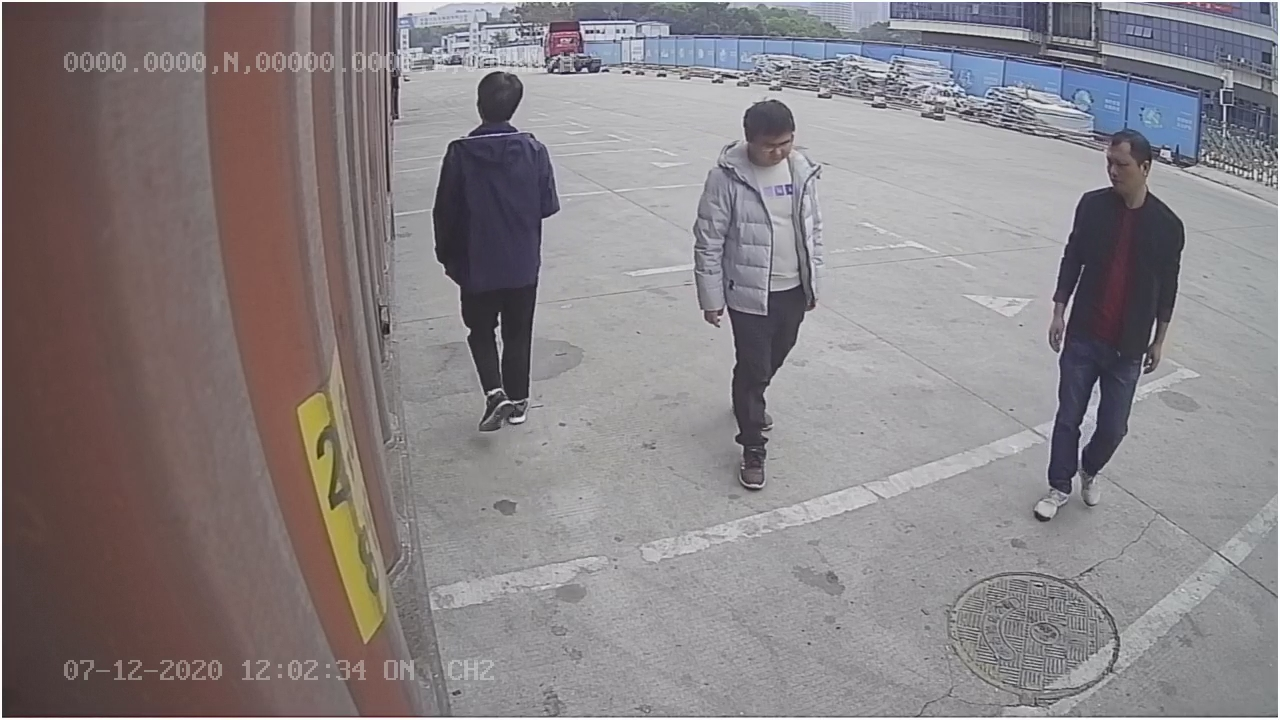person: (1030, 123, 1191, 527), (696, 95, 827, 490), (433, 65, 567, 434)
